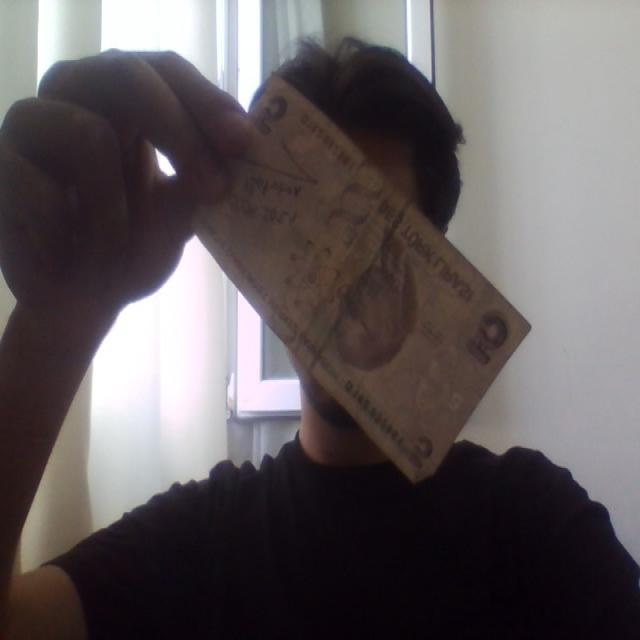5-TL: (182, 71, 534, 484)
